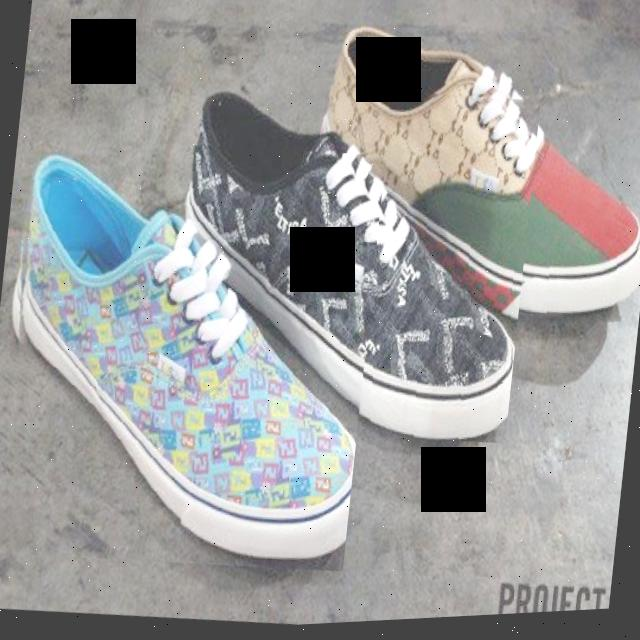shoe: (0, 121, 385, 588), (151, 62, 541, 463), (297, 12, 640, 348)
